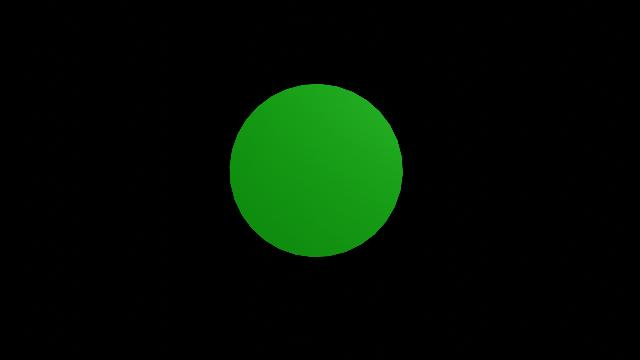Cylinder: (223, 80, 413, 266)
